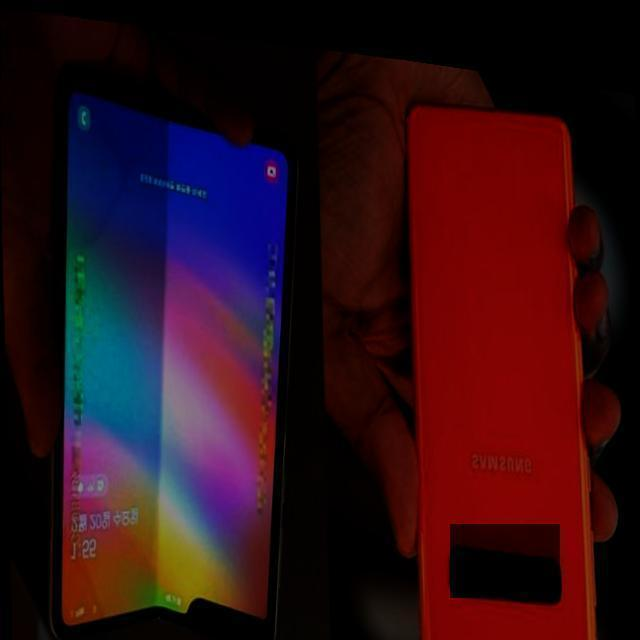lens: (450, 524, 560, 598)
phone: (56, 89, 297, 635), (398, 99, 603, 637)
